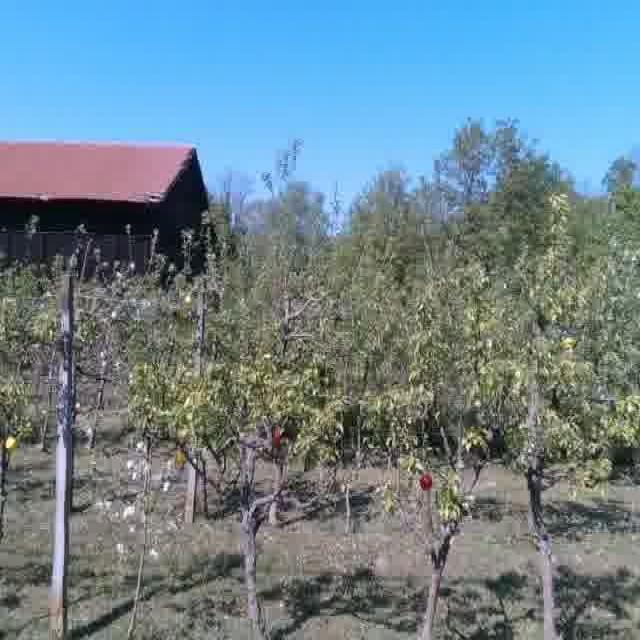red: (268, 427, 284, 452), (417, 472, 432, 490)
yellow: (2, 434, 24, 452)
